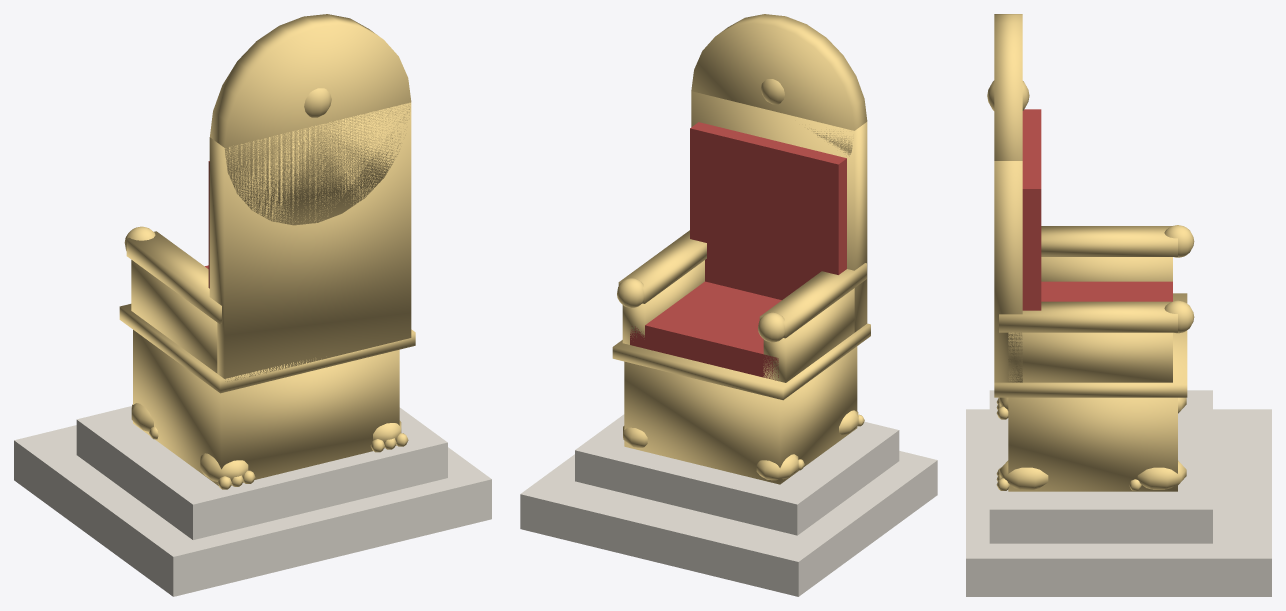
The model's file is throne.glb.
The picture shows the model from 3 angles, left to right: view 1: azimuth 30°, elevation 25°; view 2: azimuth 150°, elevation 25°; view 3: azimuth 270°, elevation 25°; orthographic projection. The views are drawn at different scales.
Visible parts, largest first — view 1: throne, dais; view 2: throne, dais, cushion; view 3: throne, dais, cushion.
Boxes of the visible parts, left/top/right/bottom form: throne: left=119, top=14, right=415, bottom=489; dais: left=14, top=406, right=491, bottom=596; throne: left=612, top=14, right=870, bottom=484; dais: left=520, top=414, right=937, bottom=596; cushion: left=630, top=122, right=846, bottom=380; throne: left=987, top=14, right=1194, bottom=491; dais: left=966, top=390, right=1271, bottom=596; cushion: left=1022, top=109, right=1172, bottom=310.
Bounding box in the file's own units: 1.5 × 2.34 × 1.3.
